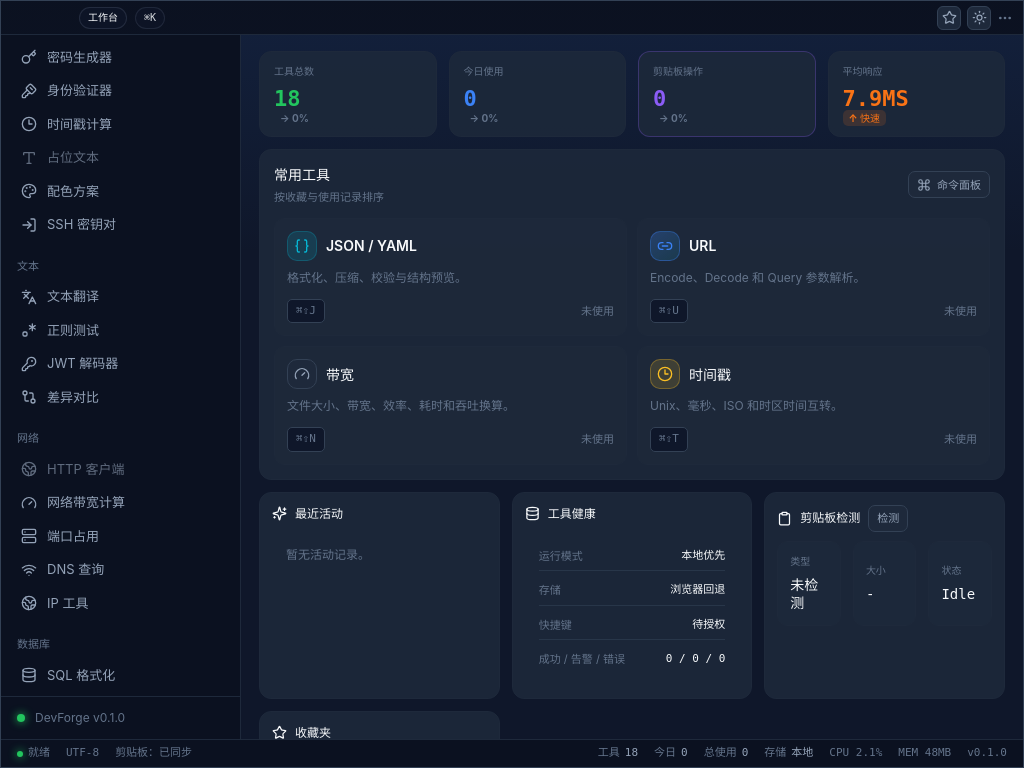
Test: App shell › navigates to the DNS tool
(page scrolled)
Click the link "DNS 查询".
click(63, 569)  # box [21,561,104,578]
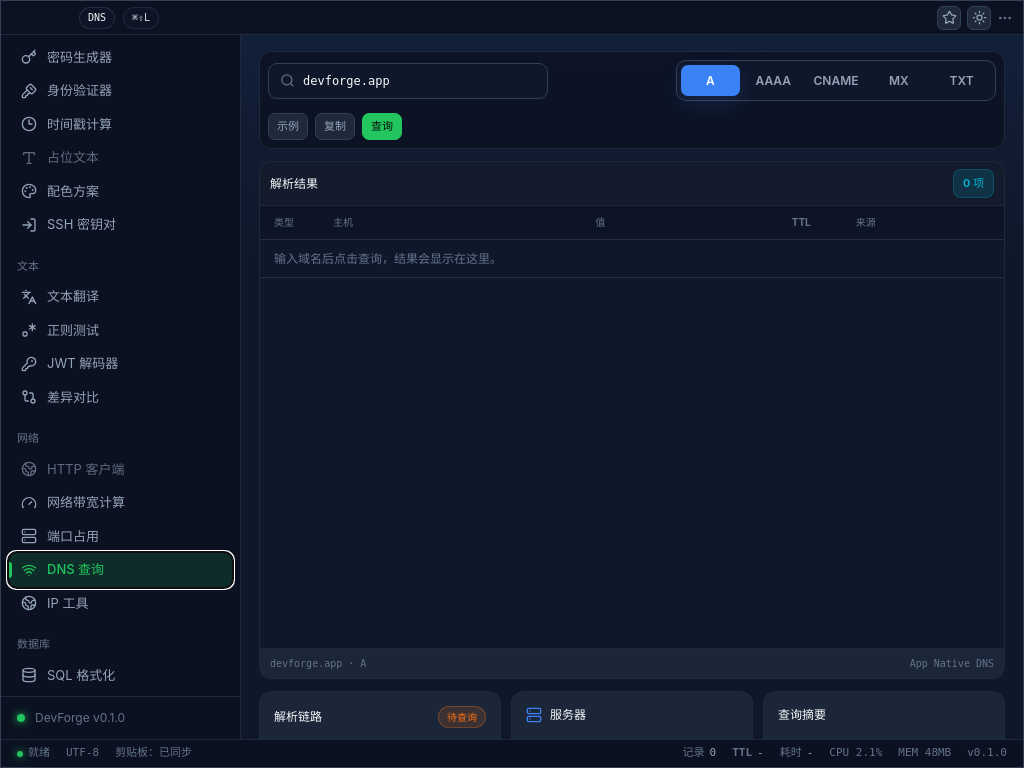
Now the text "解析结果" is shown, box [270,174,318,192]
Now the column heading "TTL" is shown, box [783,206,847,240]
